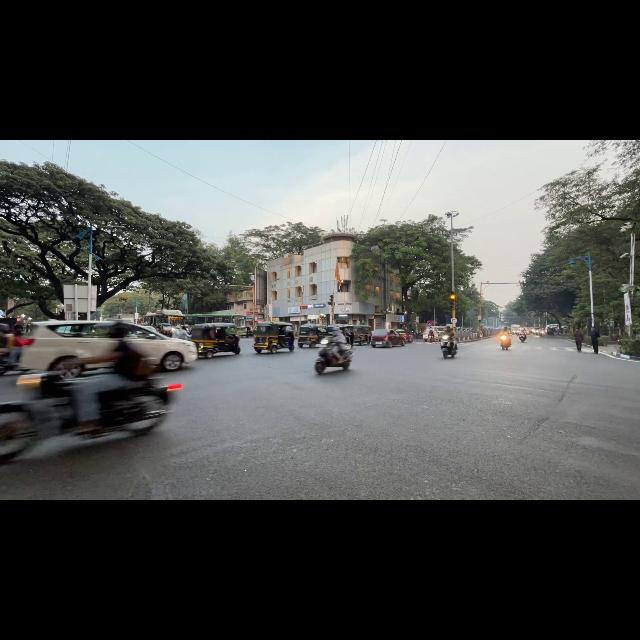bus: (185, 314, 247, 335), (143, 310, 185, 327)
car: (21, 321, 116, 377), (371, 329, 405, 347), (424, 324, 444, 340), (397, 329, 412, 342)
motorcycle: (0, 373, 91, 463), (315, 338, 352, 374), (0, 354, 23, 375), (441, 335, 457, 358), (500, 335, 511, 349), (426, 333, 436, 343), (519, 333, 526, 342)
